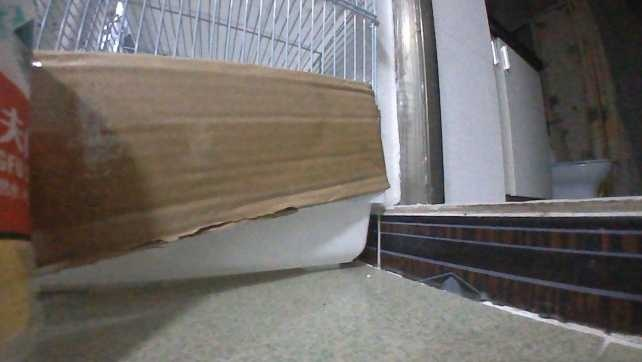door_sill: (371, 209, 641, 344)
toilet: (552, 153, 613, 199)
